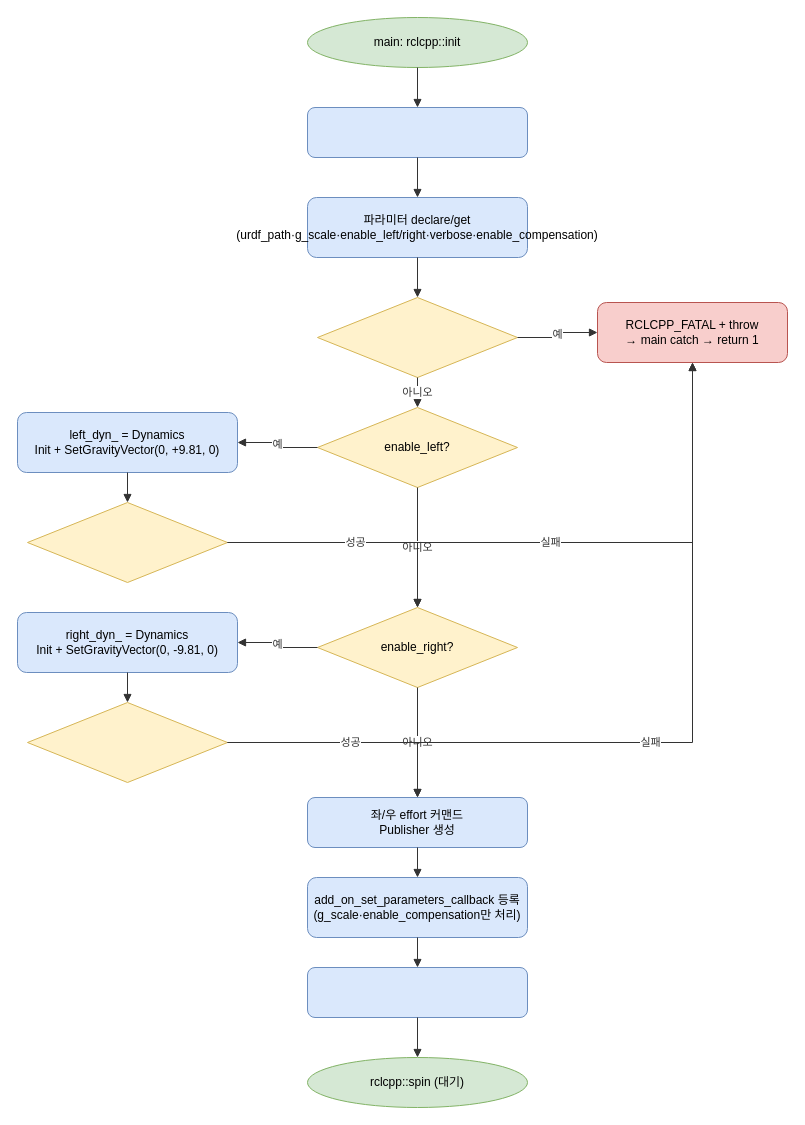
Image size: 805x1125. Some labels were removed from this diagram. The centre of each missing label's shape, as x and y in pixels:
/joint_states 구독 생성 (depth=10): [417,992]
GravityCompNode 생성자: [417,132]
left Init 성공?: [127,542]
right Init 성공?: [127,742]
urdf_path 비었나?: [417,337]
